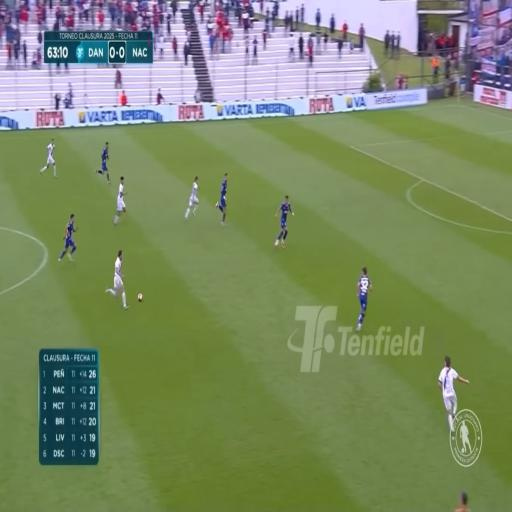Ball: (138, 291, 142, 302)
Player: (440, 357, 460, 432), (112, 251, 126, 312), (358, 271, 370, 330), (278, 196, 291, 242), (63, 215, 76, 260), (217, 175, 229, 221), (186, 178, 200, 214), (99, 139, 111, 181), (115, 180, 126, 224), (42, 140, 56, 174)
